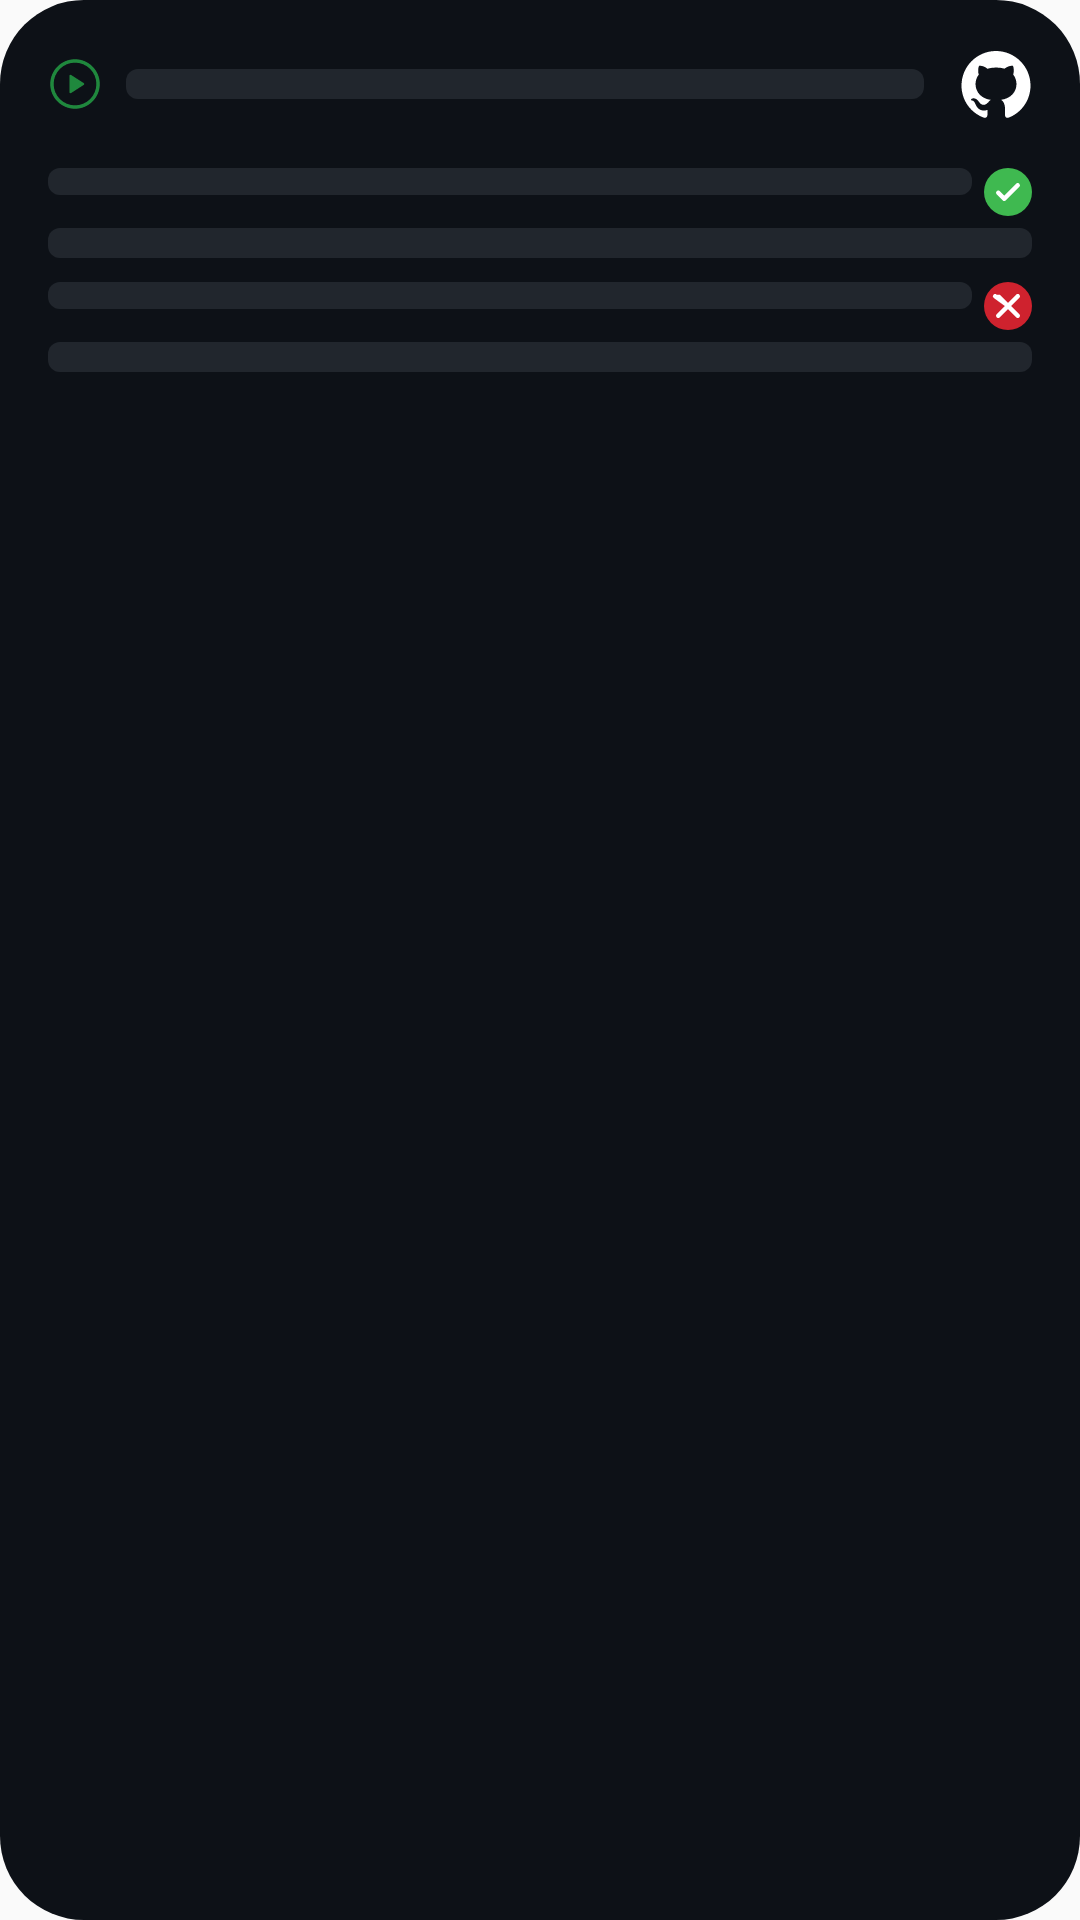

Named icons in this screenshot (1080×1920) and their bounding boxes, (x1, y1, x2, y2):
check circle: (984, 168, 1032, 216)
play: (50, 59, 100, 109)
